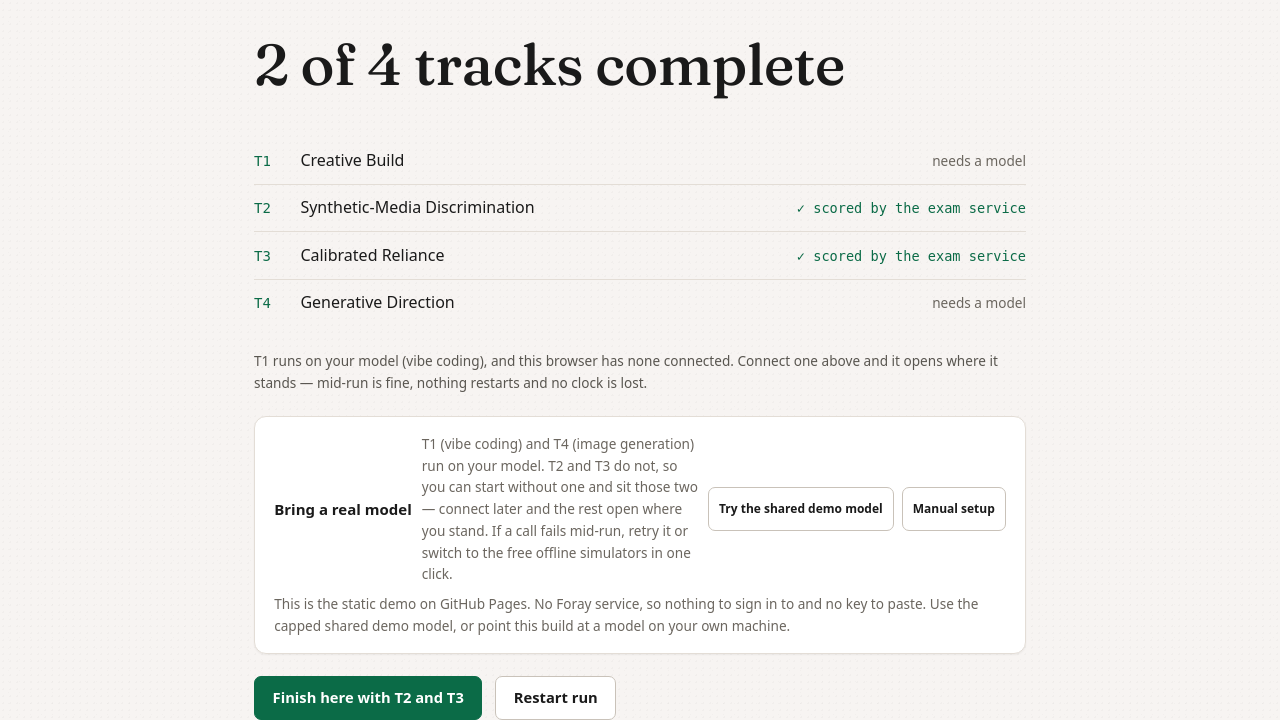
the last available track is finished › ends the run honestly instead of hanging on a track it cannot offer
(page scrolled)
Check: the text with test id "locked-t1" is shown, box [932, 150, 1026, 172]
Click the button "Finish here with T2 and T3" at (368, 698), box [254, 676, 482, 719]
(page scrolled)
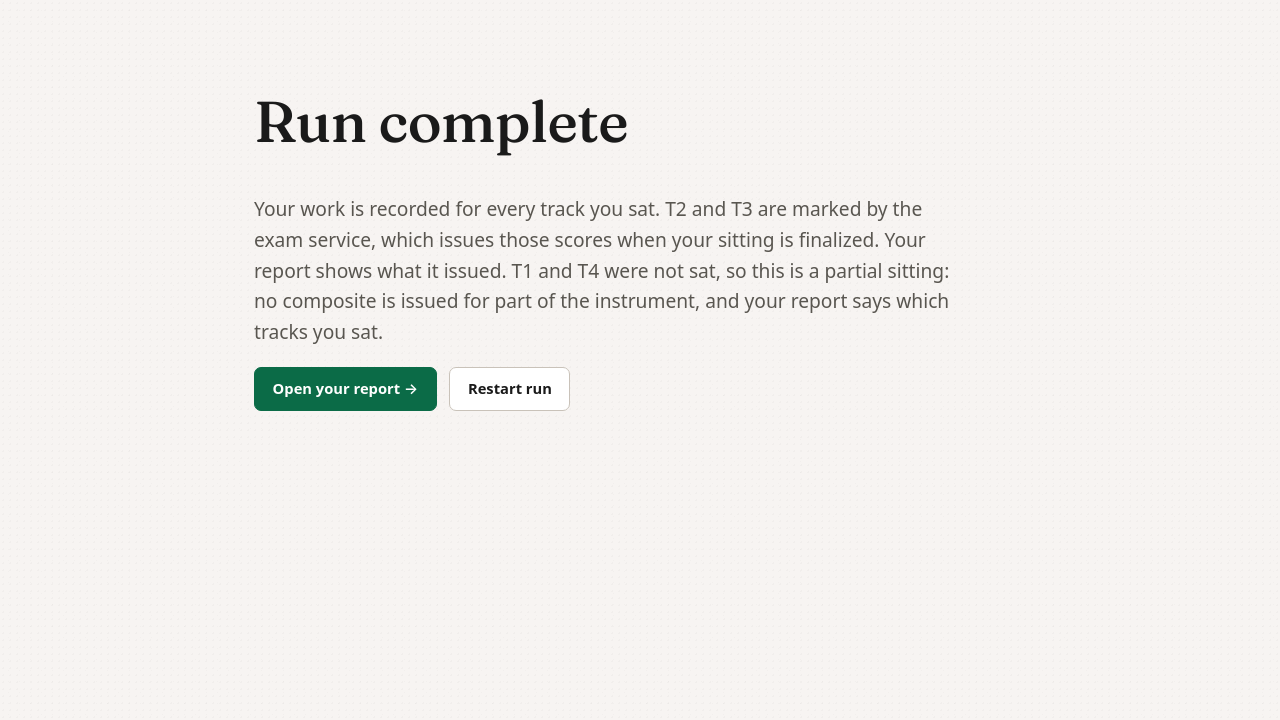
Check: the text with test id "completion-summary" shows "T1 and T4 were not sat", box [254, 195, 949, 345]
Check: the text with test id "completion-summary" shows "partial sitting", box [254, 195, 949, 345]
